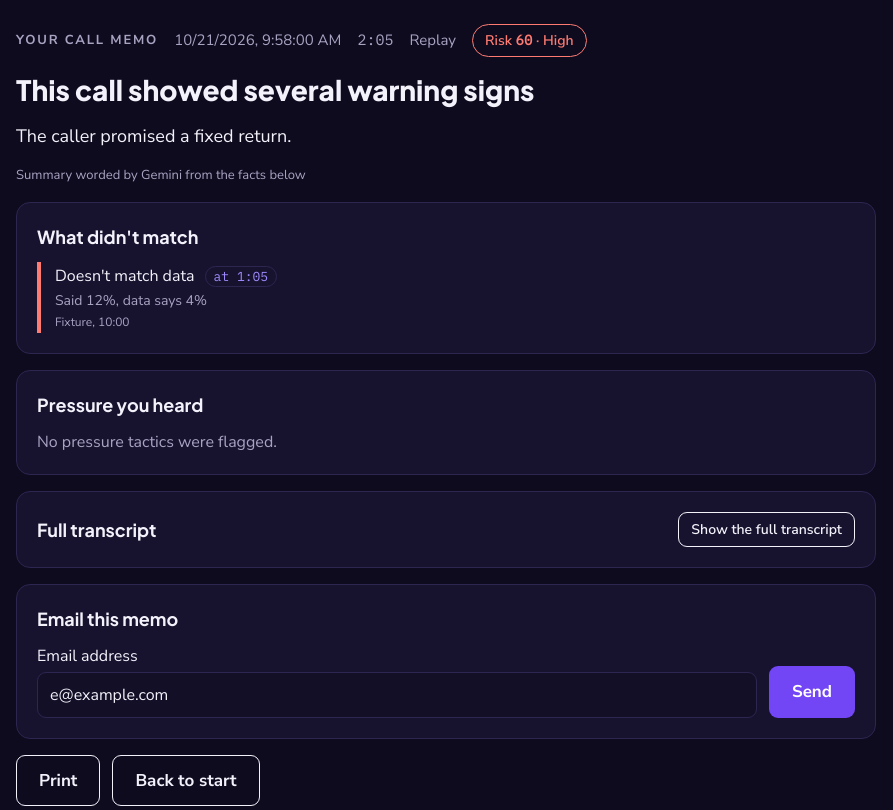
Test: MemoScreen › opens the transcript and marks the closest earlier line
Click the button "at 1:05".
click(241, 277)  # box top-left (204, 266), bottom-right (277, 288)
(page scrolled)
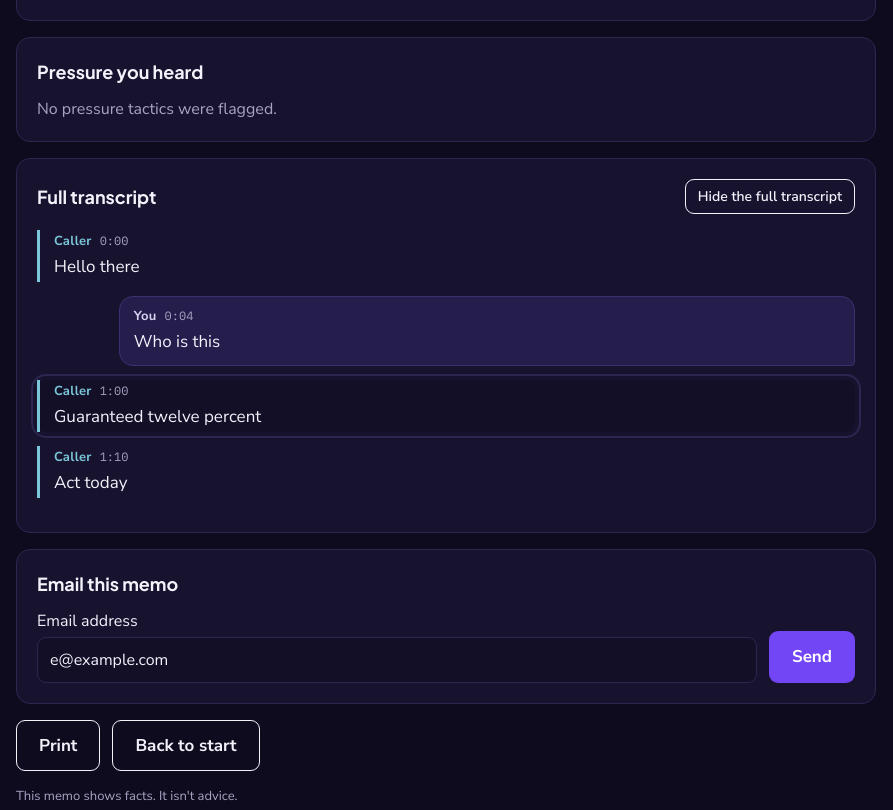
Check: the text "Guaranteed twelve percent" is shown, box top-left (54, 406), bottom-right (261, 428)
